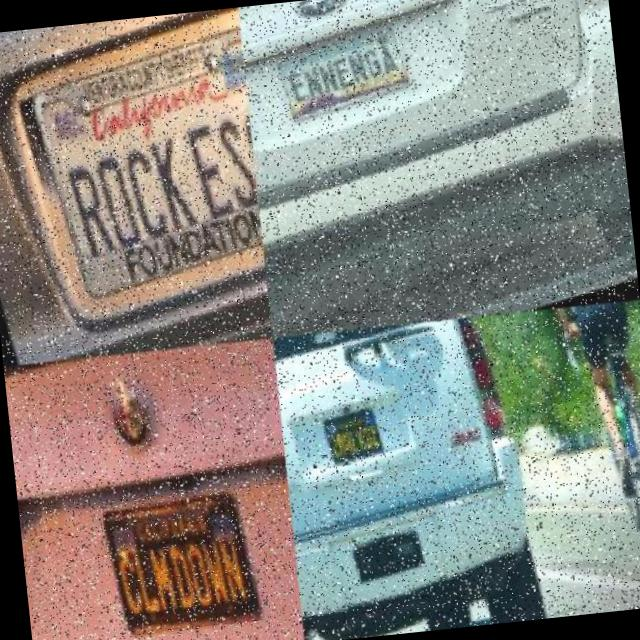LicensePlate: (19, 18, 267, 303), (87, 464, 276, 640), (273, 20, 414, 119), (321, 400, 391, 464)
